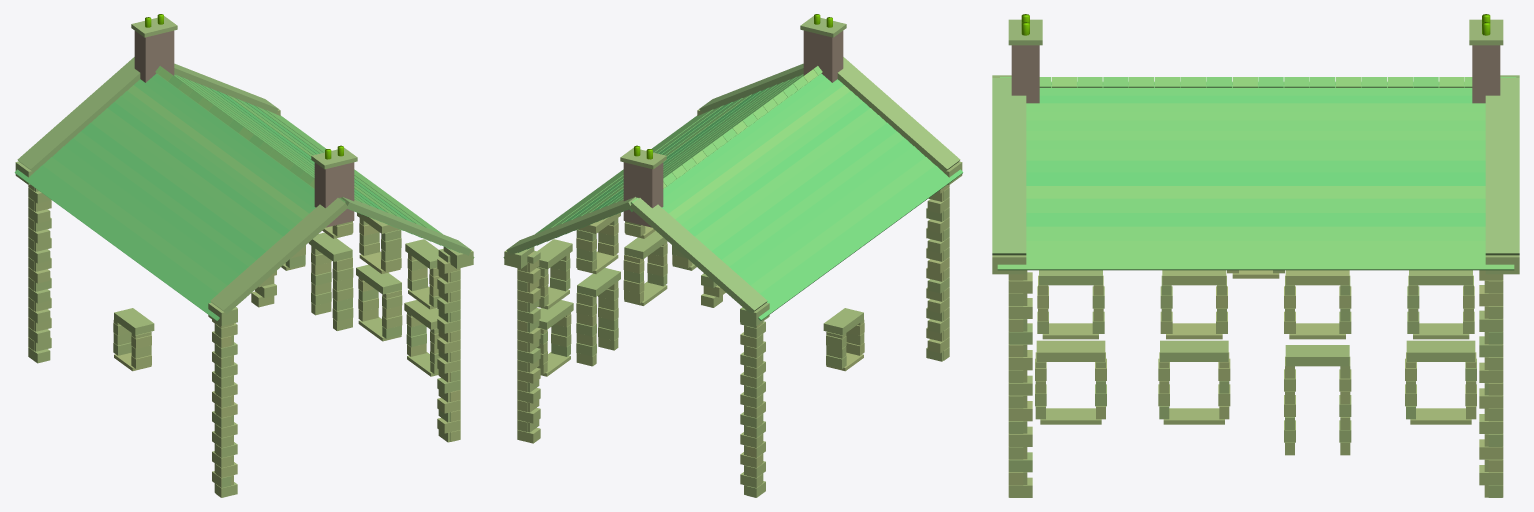
The model's file is SM_Bld_164_Stone.glb.
The picture shows the model from 3 angles, left to right: view 1: azimuth 30°, elevation 25°; view 2: azimuth 150°, elevation 25°; view 3: azimuth 270°, elevation 25°; orthographic projection. The views are drawn at different scales.
Visible parts, largest first — view 1: SM_Bld_164_Stone; view 2: SM_Bld_164_Stone; view 3: SM_Bld_164_Stone.
Part boxes in pixels (x1,y1,x2,y2): SM_Bld_164_Stone: [14, 14, 474, 497]; SM_Bld_164_Stone: [503, 14, 963, 497]; SM_Bld_164_Stone: [992, 14, 1519, 497].
Bounding box in the file's own units: 8.11 × 9.47 × 11.22.
